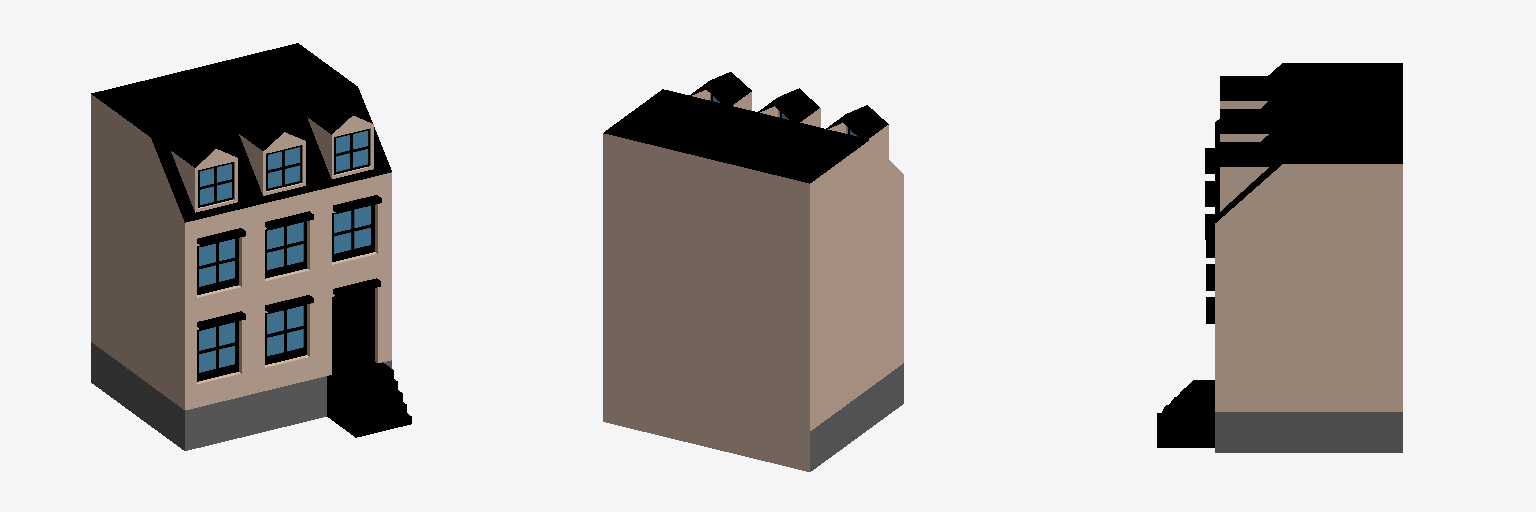
The picture shows the model from 3 angles: view 1: azimuth 30°, elevation 25°; view 2: azimuth 150°, elevation 25°; view 3: azimuth 270°, elevation 25°; orthographic projection.
Parts seen in each view (by area): view 1: Cube.016; view 2: Cube.016; view 3: Cube.016.
Part boxes in pixels (left/top/right/bottom): Cube.016: left=91, top=43, right=411, bottom=450; Cube.016: left=603, top=72, right=903, bottom=471; Cube.016: left=1157, top=63, right=1402, bottom=452.
Bounding box in the file's own units: 5.84 × 7.86 × 6.
1 materials, 1 textured.